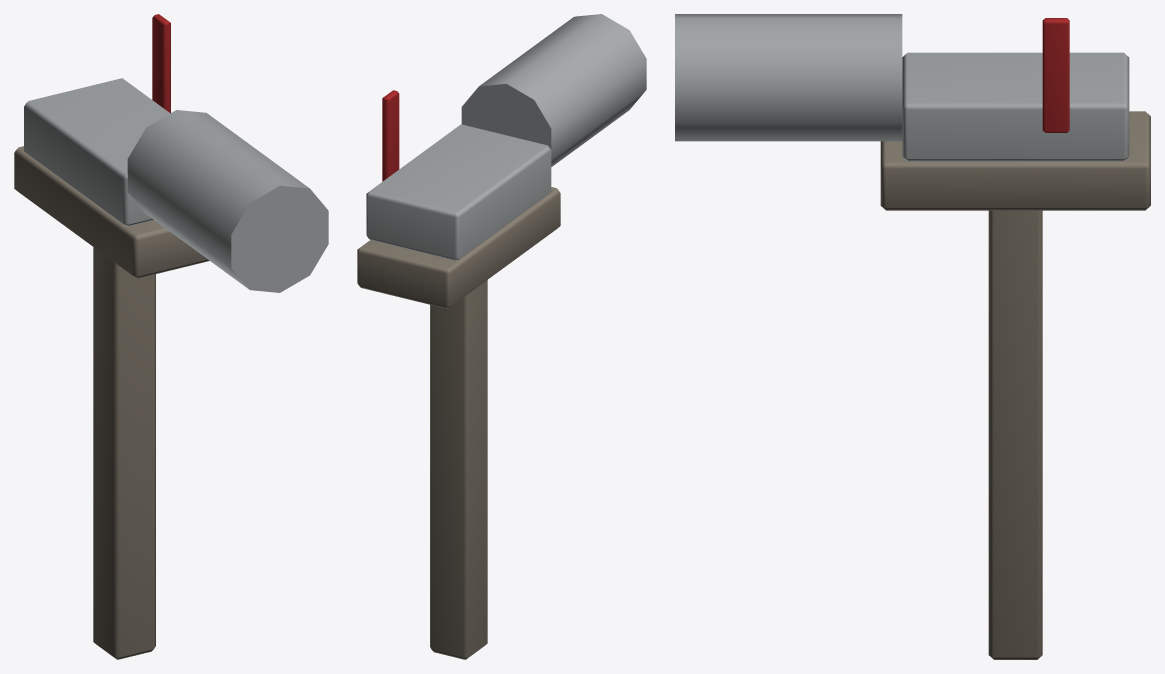
The model's file is MailboxPostFL.fbx.
The picture shows the model from 3 angles, left to right: view 1: azimuth 30°, elevation 25°; view 2: azimuth 150°, elevation 25°; view 3: azimuth 270°, elevation 25°; orthographic projection. The views are drawn at different scales.
Visible parts, largest first — view 1: MailboxPostFL; view 2: MailboxPostFL; view 3: MailboxPostFL.
Part boxes in pixels (box(x1,y1,x2,y2)): MailboxPostFL: box(14, 14, 328, 659); MailboxPostFL: box(357, 14, 646, 659); MailboxPostFL: box(675, 14, 1150, 659).
Bounding box in the file's own units: 0.26 × 1.35 × 0.88.
